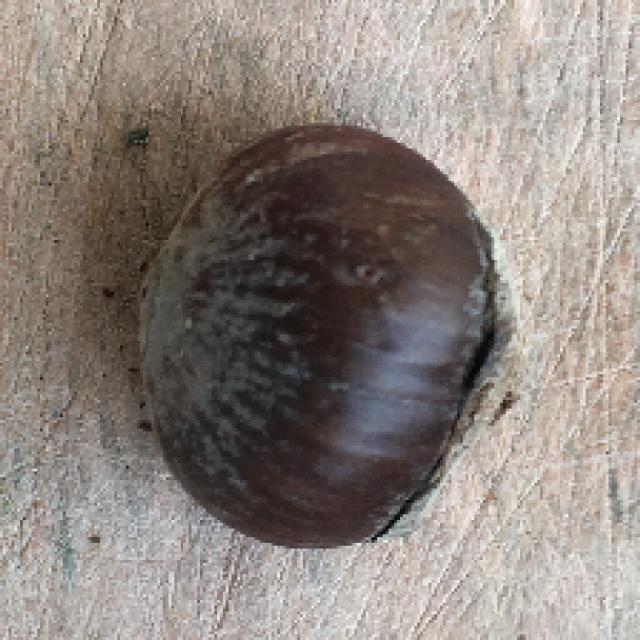damagedHazelnut: (129, 117, 522, 560)
